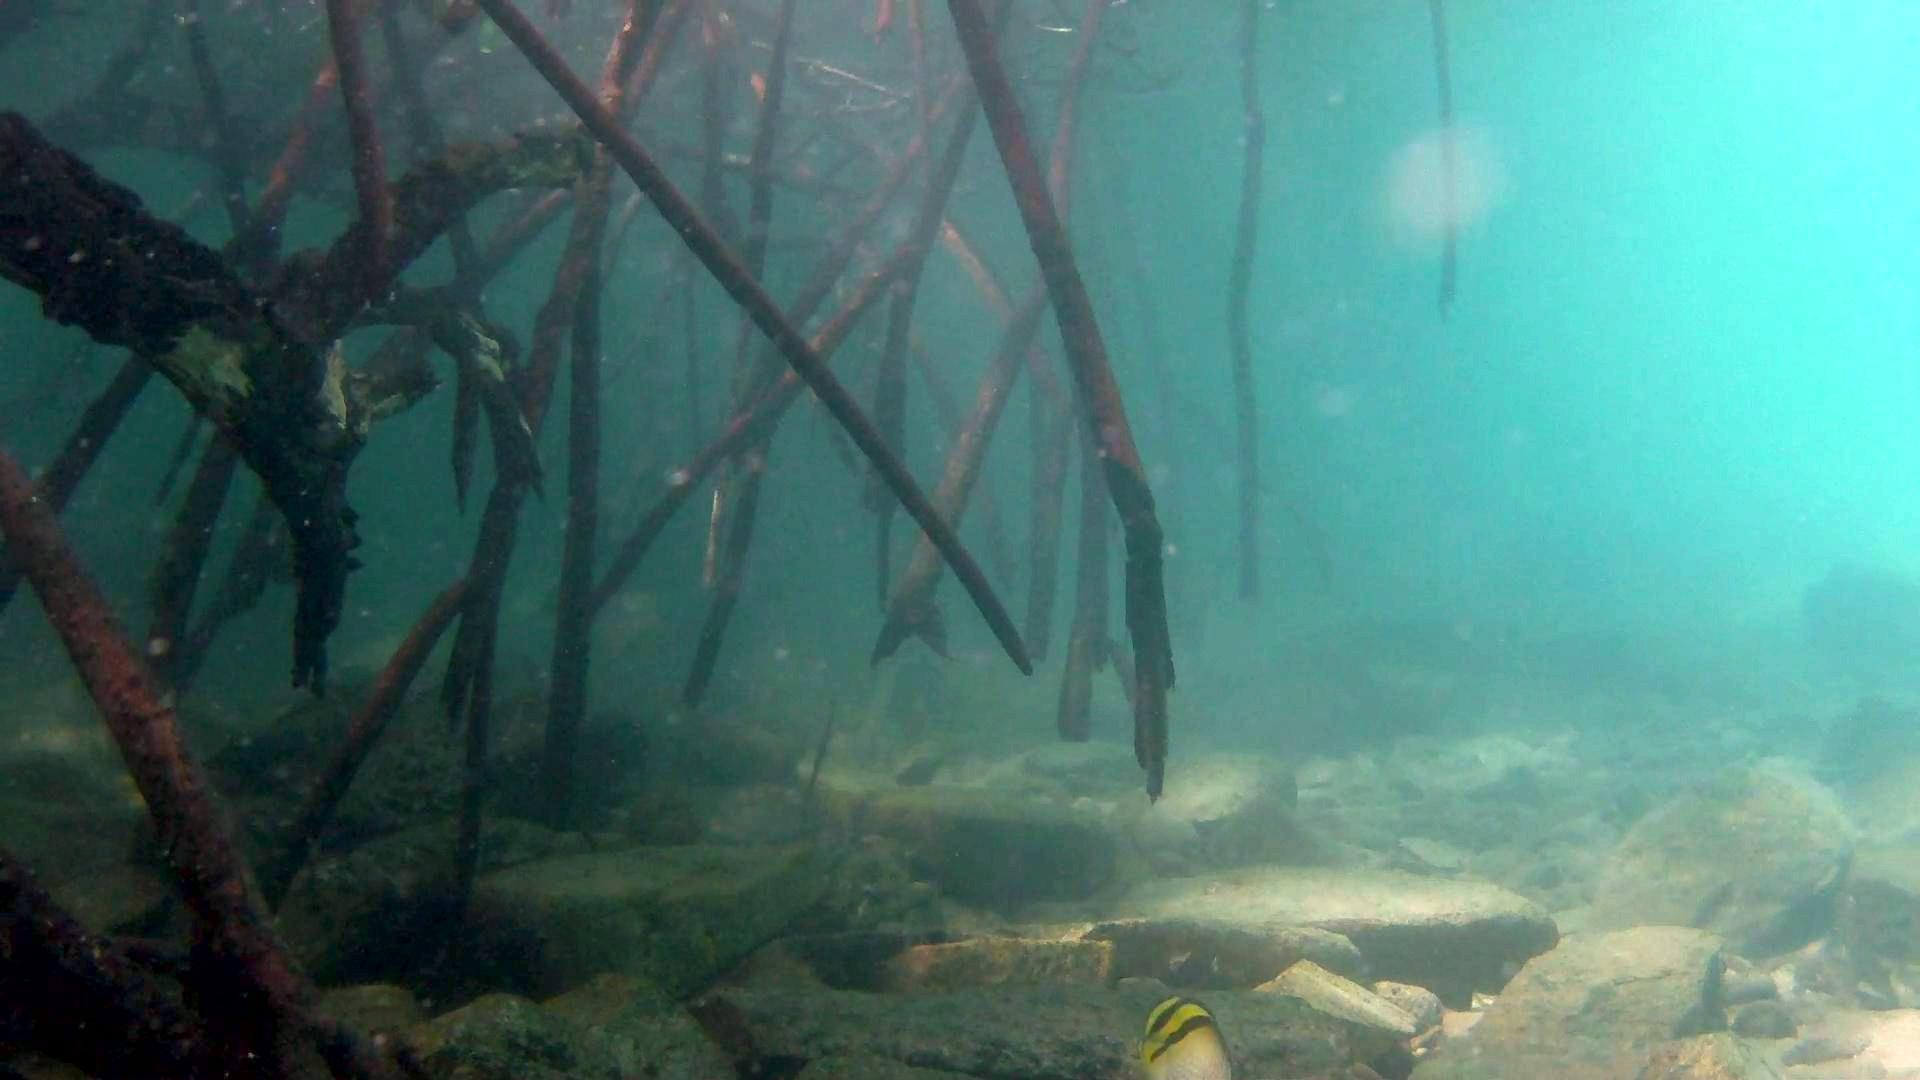chaetodon vagabundus: (1135, 993, 1236, 1080)
